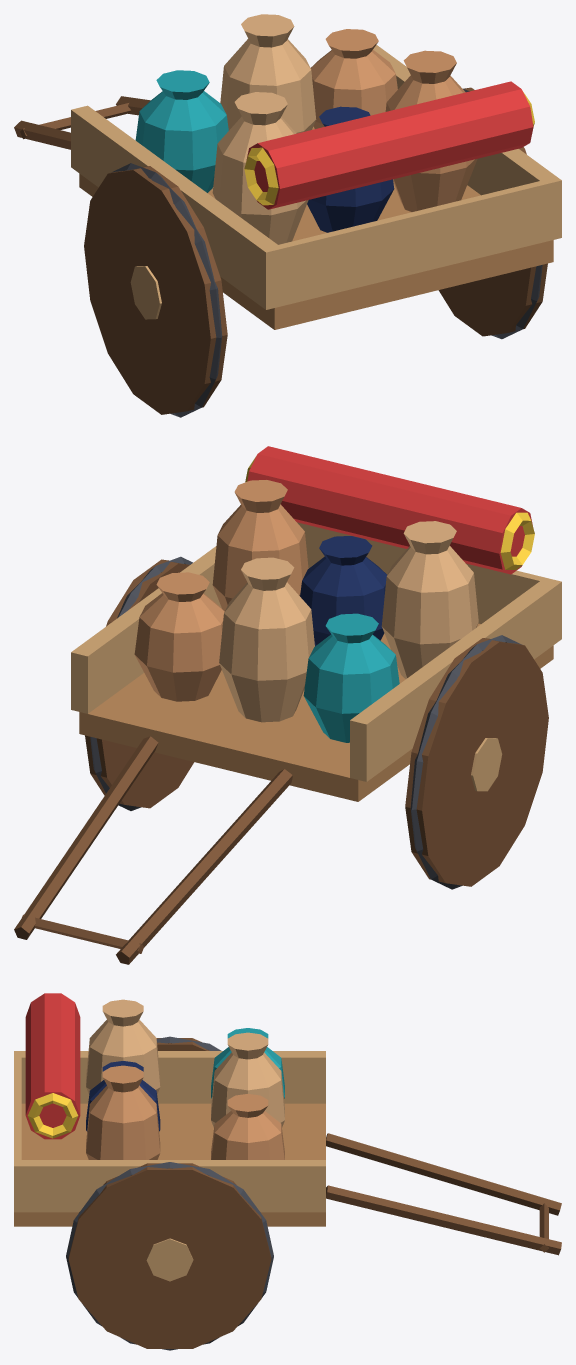
File: PotteryCart.fbx
3 renders of one model, top to bottom at view 1: azimuth 30°, elevation 25°; view 2: azimuth 150°, elevation 25°; view 3: azimuth 270°, elevation 25°, orthographic. The views are drawn at different scales.
Parts seen in each view (by area): view 1: PotteryCart_WoodLight, PotteryCart_WoodDark, PotteryCart_Red, PotteryCart_AdobeLight, PotteryCart_Adobe, PotteryCart_Plank, PotteryCart_Teal, PotteryCart_Navy, PotteryCart_DarkMetal, PotteryCart_Yellow; view 2: PotteryCart_WoodDark, PotteryCart_AdobeLight, PotteryCart_WoodLight, PotteryCart_Plank, PotteryCart_Adobe, PotteryCart_Red, PotteryCart_Teal, PotteryCart_Navy, PotteryCart_DarkMetal, PotteryCart_Yellow; view 3: PotteryCart_WoodDark, PotteryCart_WoodLight, PotteryCart_Adobe, PotteryCart_Plank, PotteryCart_AdobeLight, PotteryCart_Red, PotteryCart_DarkMetal, PotteryCart_Yellow, PotteryCart_Navy, PotteryCart_Teal.
Part boxes in pixels (left/top/right/bottom): PotteryCart_WoodLight: left=71, top=45, right=561, bottom=319; PotteryCart_WoodDark: left=14, top=87, right=547, bottom=414; PotteryCart_Red: left=246, top=81, right=533, bottom=209; PotteryCart_AdobeLight: left=212, top=14, right=316, bottom=244; PotteryCart_Adobe: left=310, top=29, right=477, bottom=211; PotteryCart_Plank: left=79, top=126, right=553, bottom=329; PotteryCart_Teal: left=135, top=70, right=228, bottom=192; PotteryCart_Navy: left=307, top=106, right=394, bottom=232; PotteryCart_DarkMetal: left=111, top=89, right=542, bottom=417; PotteryCart_Yellow: left=244, top=92, right=534, bottom=205; PotteryCart_WoodDark: left=14, top=559, right=548, bottom=964; PotteryCart_AdobeLight: left=219, top=521, right=478, bottom=722; PotteryCart_WoodLight: left=71, top=522, right=561, bottom=791; PotteryCart_Plank: left=79, top=623, right=553, bottom=801; PotteryCart_Adobe: left=134, top=480, right=308, bottom=701; PotteryCart_Red: left=247, top=446, right=532, bottom=574; PotteryCart_Teal: left=303, top=613, right=399, bottom=742; PotteryCart_Navy: left=300, top=536, right=386, bottom=646; PotteryCart_DarkMetal: left=90, top=556, right=522, bottom=889; PotteryCart_Yellow: left=245, top=457, right=534, bottom=569; PotteryCart_WoodDark: left=68, top=1038, right=561, bottom=1348; PotteryCart_WoodLight: left=14, top=1051, right=325, bottom=1281; PotteryCart_Adobe: left=86, top=1065, right=284, bottom=1159; PotteryCart_Plank: left=14, top=1103, right=325, bottom=1226; PotteryCart_AdobeLight: left=86, top=999, right=284, bottom=1127; PotteryCart_Red: left=25, top=993, right=80, bottom=1139; PotteryCart_DarkMetal: left=66, top=1036, right=273, bottom=1350; PotteryCart_Yellow: left=27, top=1093, right=78, bottom=1138; PotteryCart_Navy: left=86, top=1061, right=160, bottom=1131; PotteryCart_Teal: left=211, top=1028, right=284, bottom=1098.
Bounding box in the file's own units: 8.1 × 6.97 × 14.05.
